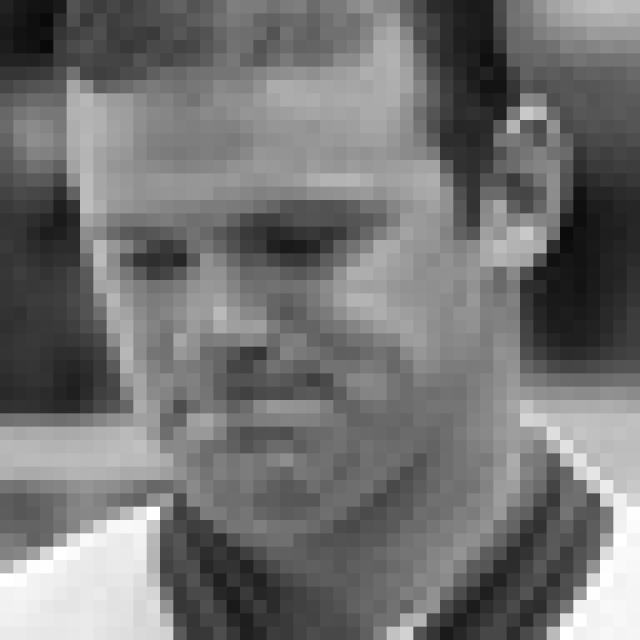sad: (97, 188, 417, 466)
